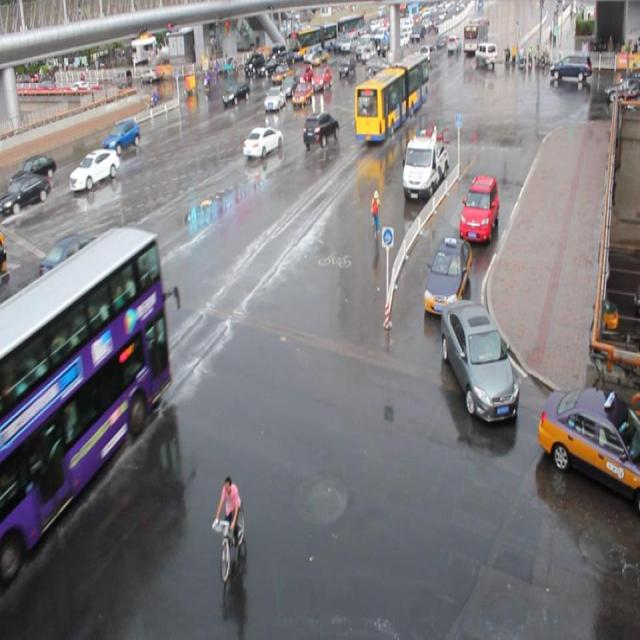bus: (402, 129, 448, 198)
car: (536, 386, 640, 512), (439, 297, 518, 421), (38, 234, 112, 306), (423, 234, 471, 314), (458, 174, 499, 241), (1, 171, 52, 217), (69, 148, 120, 190), (11, 153, 56, 188), (302, 110, 340, 148), (103, 119, 141, 155), (242, 125, 282, 158), (222, 79, 250, 107), (359, 78, 382, 106), (264, 85, 286, 111), (292, 80, 313, 107), (311, 66, 332, 92), (280, 75, 299, 97)
van: (1, 226, 171, 592), (353, 51, 428, 140)
